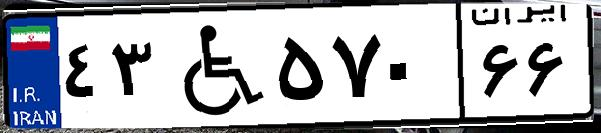0: (385, 28, 445, 110)
3: (110, 28, 158, 98)
4: (57, 26, 110, 100)
5: (270, 28, 330, 110)
6: (475, 38, 525, 113), (525, 38, 570, 115)
7: (330, 28, 385, 110)
ژ (معلولین و جانبازان): (158, 12, 270, 120)
